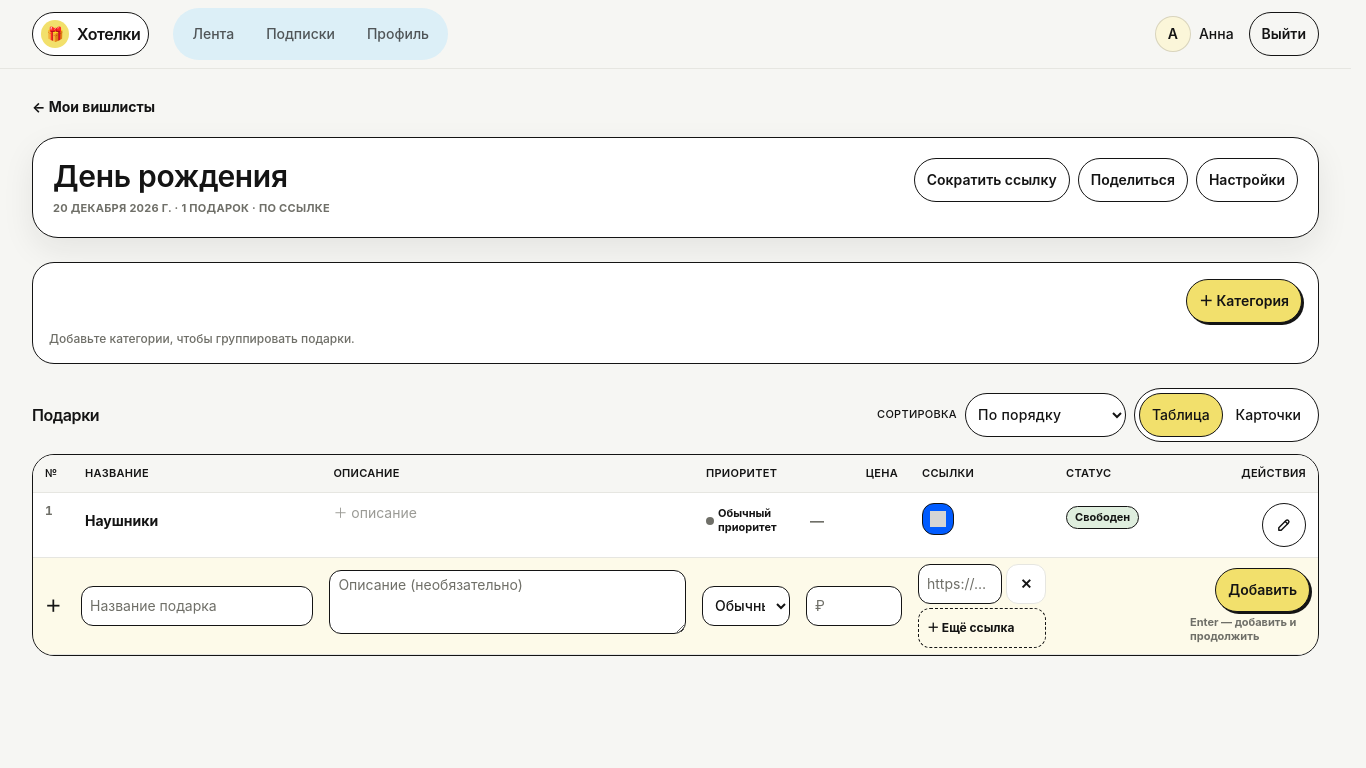
Test: квадратные кнопки ссылок › модалка редактирования: те же квадратные кнопки
The width and height of the screenshot is (1366, 768).
Expected: the text "Наушники" is shown, x1=85 y1=511 x2=158 y2=531
Click the button named "Редактировать подарок" at (1284, 525), box x1=1262 y1=503 x2=1306 y2=547
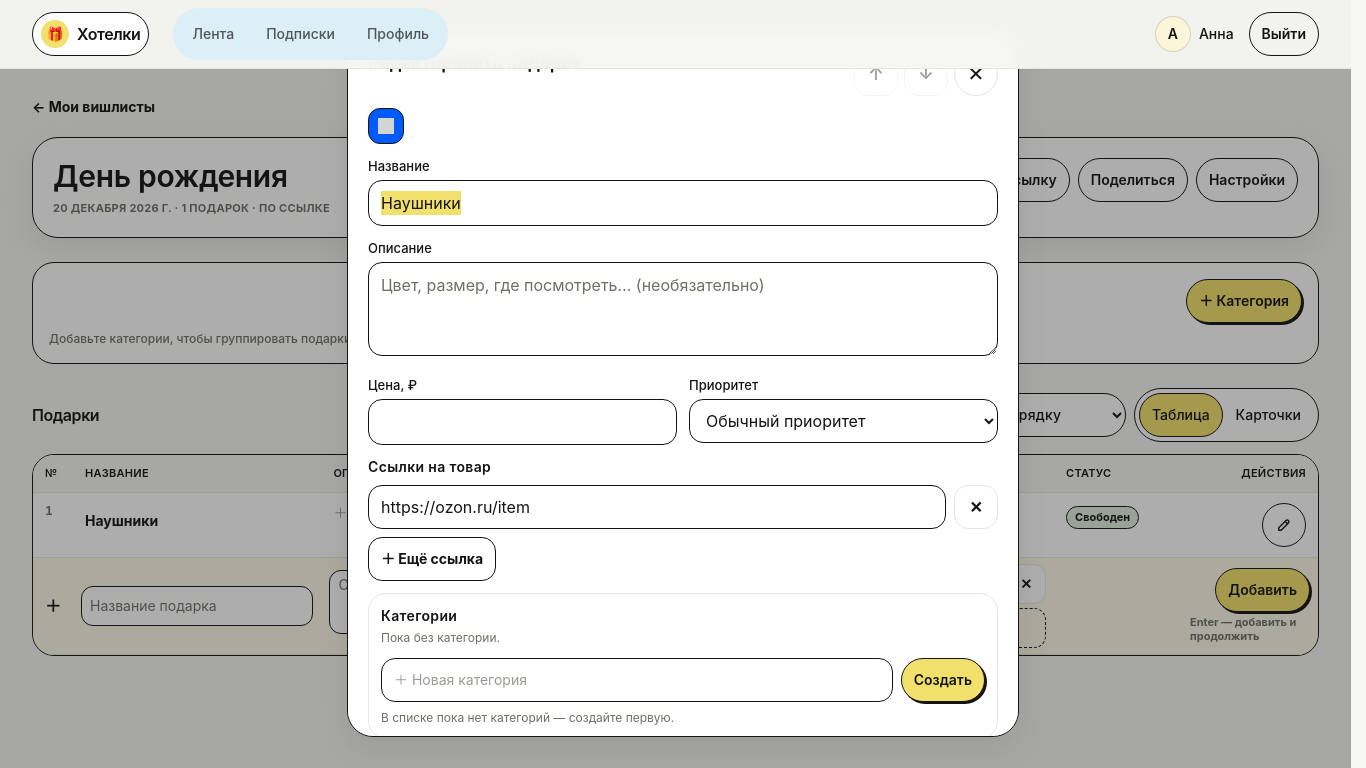
Expected: the heading "Редактировать подарок" is shown, x1=368 y1=52 x2=582 y2=73
Expected: the link named "Открыть ссылку: ozon.ru" is shown, x1=368 y1=108 x2=404 y2=144
